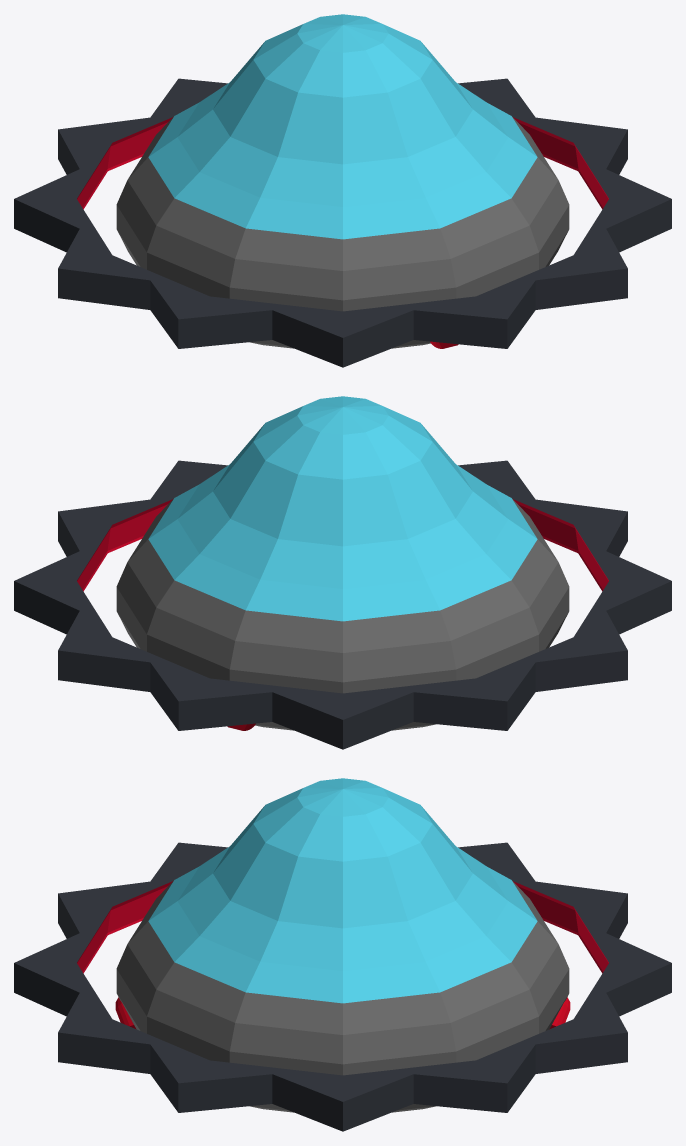
File: enemy_boss_ship.glb
The picture shows the model from 3 angles, top to bottom: view 1: azimuth 30°, elevation 25°; view 2: azimuth 150°, elevation 25°; view 3: azimuth 270°, elevation 25°; orthographic projection.
Visible parts, largest first — view 1: Main, rim; view 2: Main, rim; view 3: Main, rim.
Part boxes in pixels (left/top/right/bottom): Main: left=116, top=14, right=569, bottom=348; rim: left=14, top=78, right=671, bottom=367; Main: left=116, top=396, right=569, bottom=730; rim: left=14, top=460, right=671, bottom=749; Main: left=116, top=778, right=569, bottom=1112; rim: left=14, top=842, right=671, bottom=1131.
Bounding box in the file's own units: 10.21 × 5.04 × 10.21.
